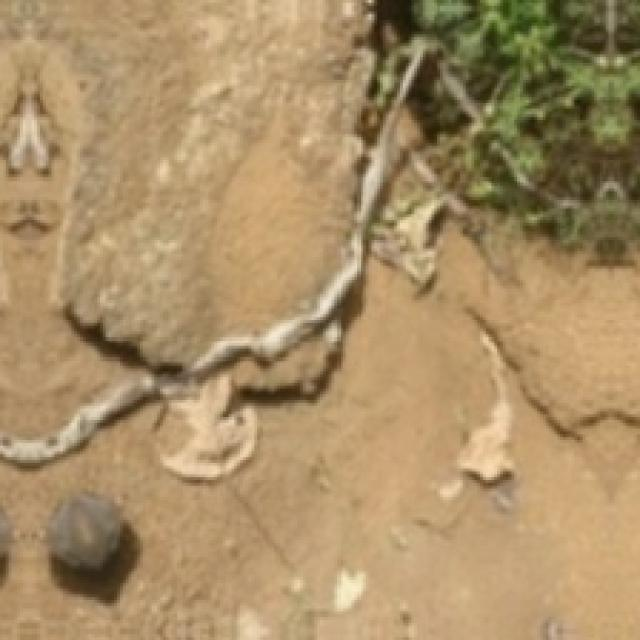king cobra: (0, 0, 386, 460)
